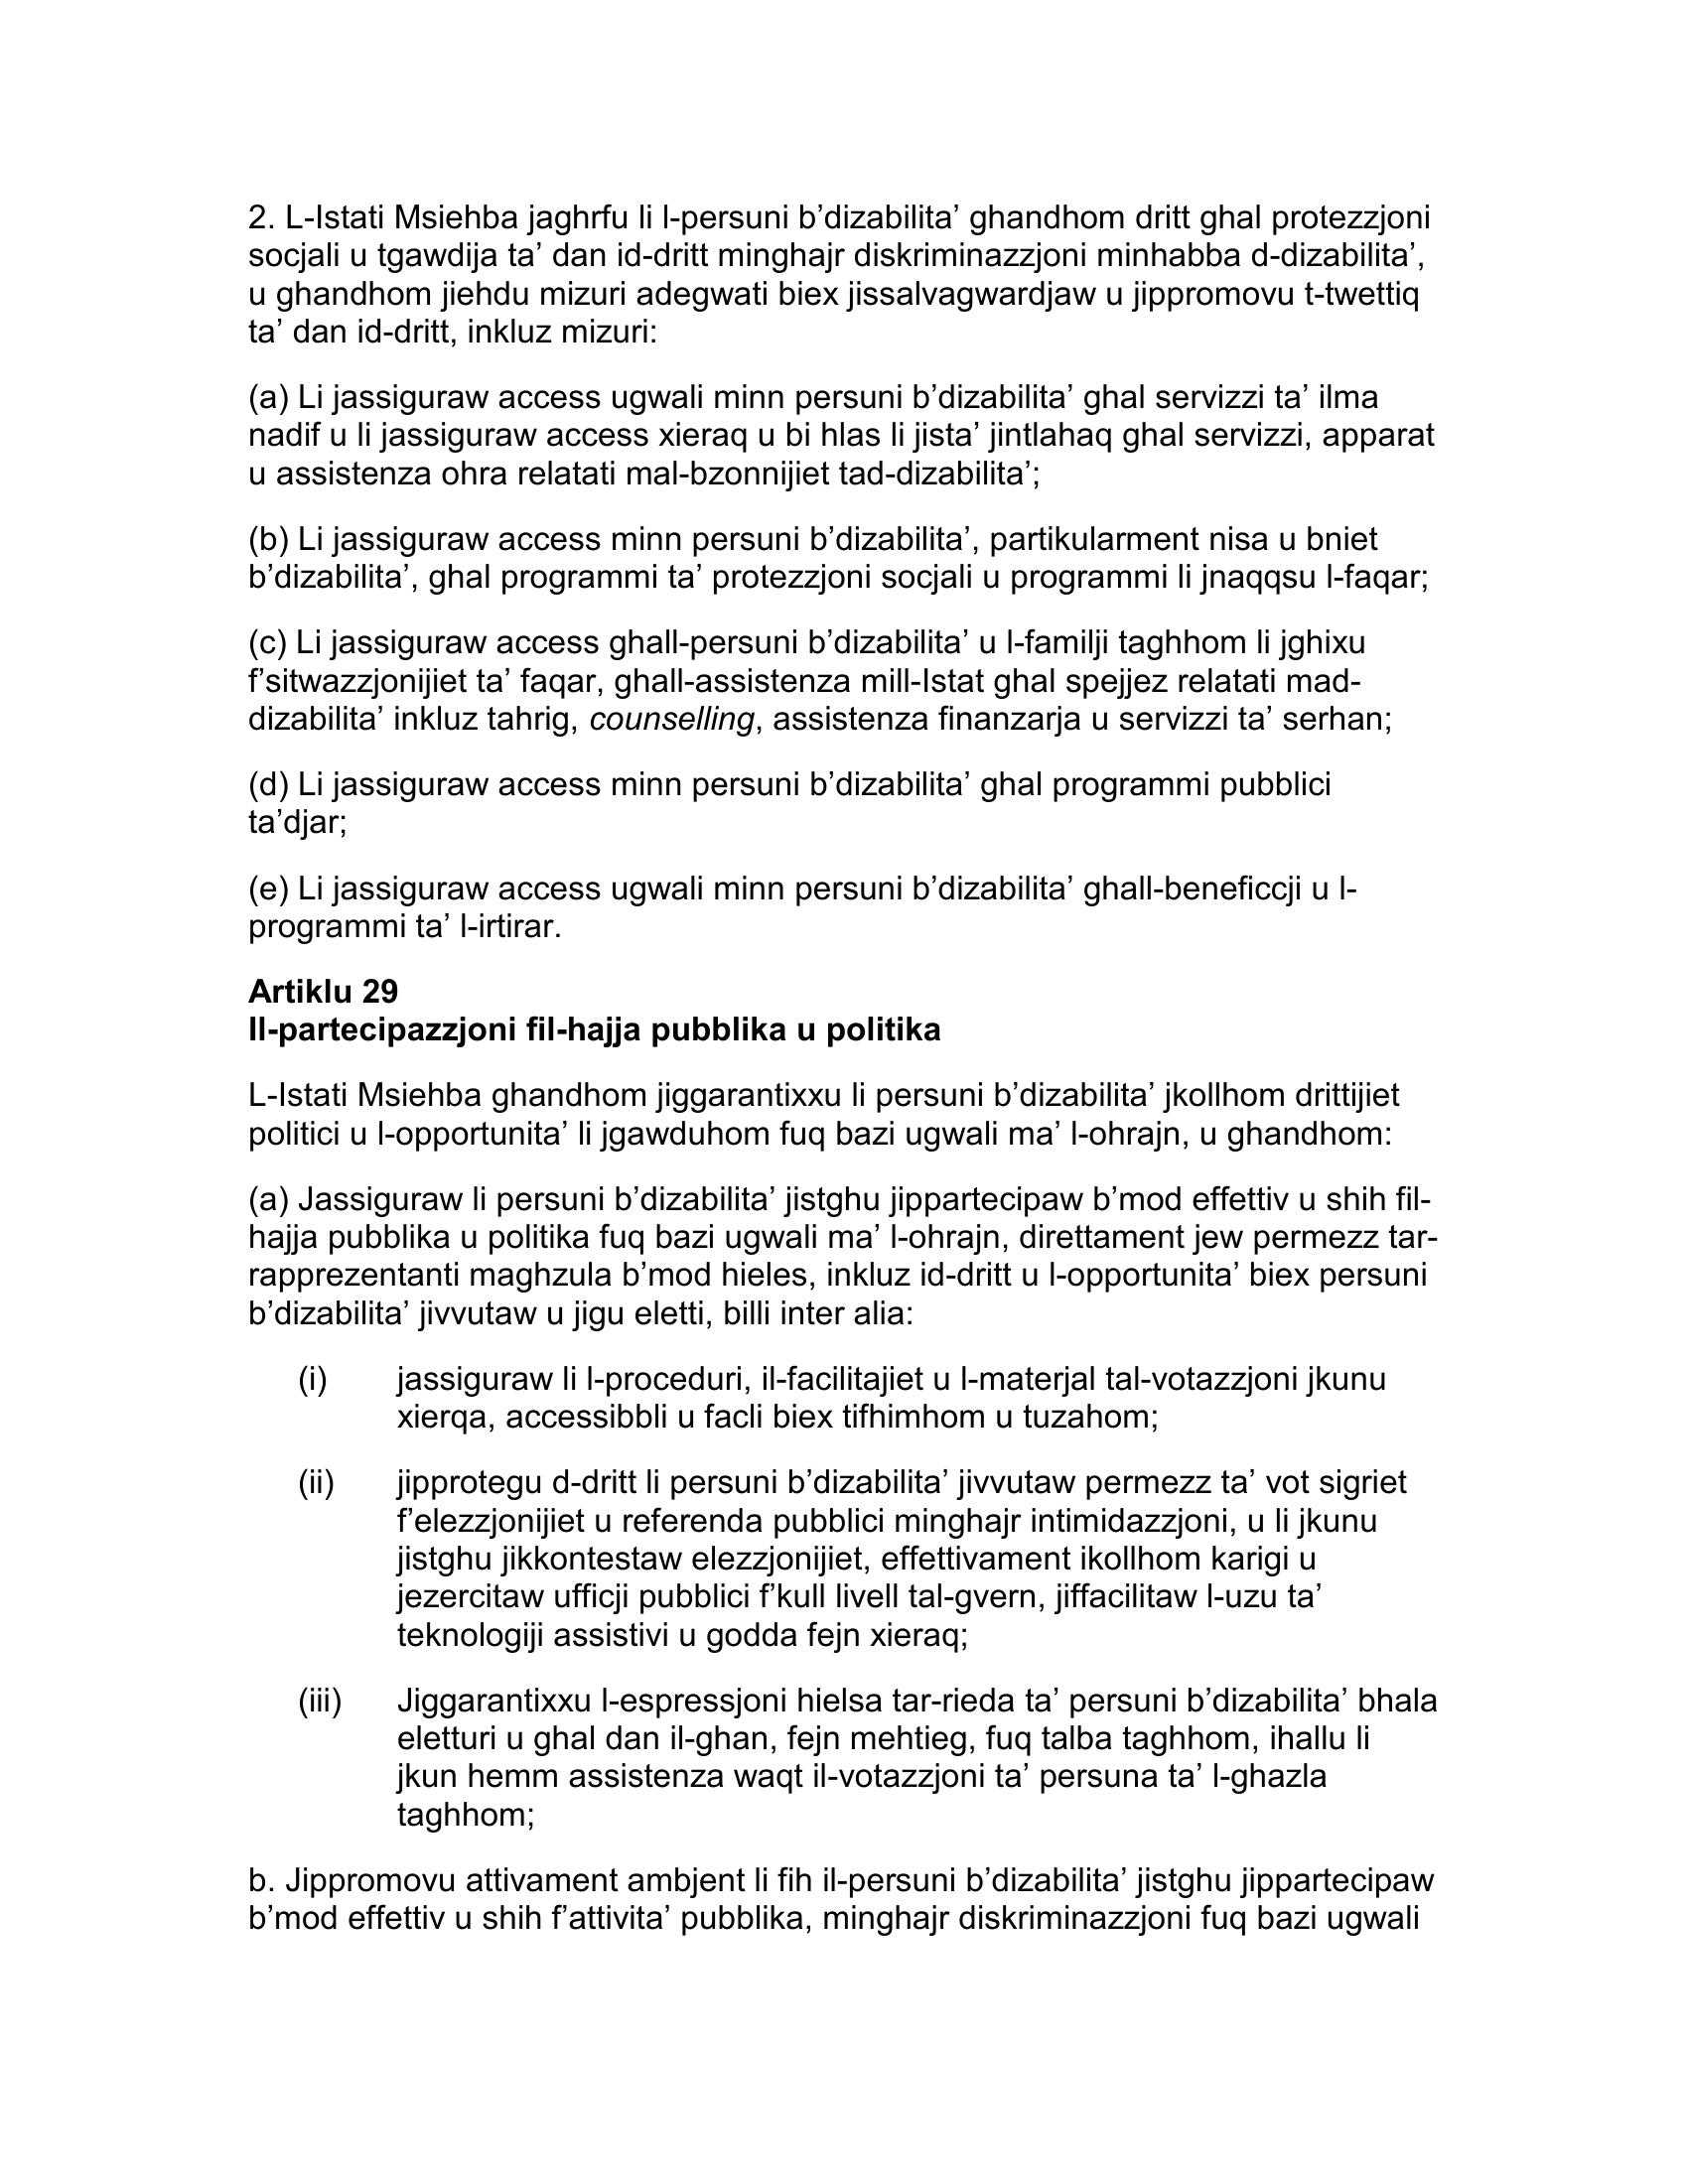text: (223, 170, 1452, 1973)
